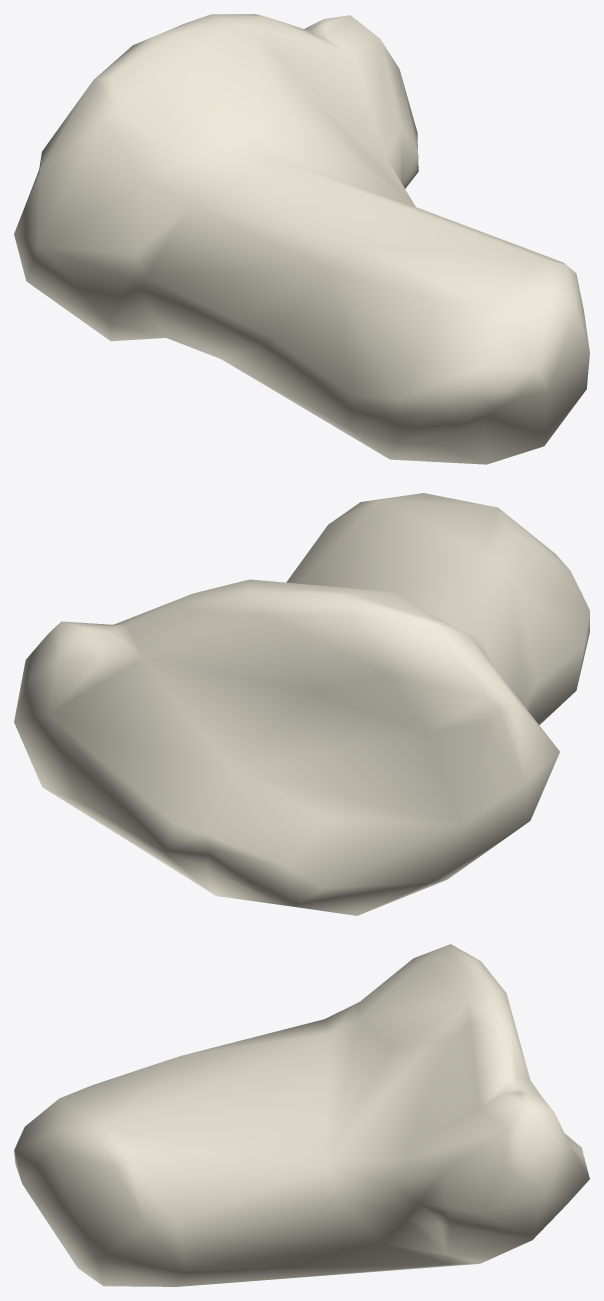
The picture shows the model from 3 angles, top to bottom: view 1: azimuth 30°, elevation 25°; view 2: azimuth 150°, elevation 25°; view 3: azimuth 270°, elevation 25°; orthographic projection. The views are drawn at different scales.
Parts seen in each view (by area): view 1: ZA_f16f0b464cfedccc; view 2: ZA_f16f0b464cfedccc; view 3: ZA_f16f0b464cfedccc.
Boxes of the visible parts, left/top/right/bottom form: ZA_f16f0b464cfedccc: left=14, top=14, right=589, bottom=464; ZA_f16f0b464cfedccc: left=14, top=493, right=589, bottom=915; ZA_f16f0b464cfedccc: left=14, top=944, right=589, bottom=1286.
Size of the model in its own units: 0.00885 by 0.00616 by 0.012.
